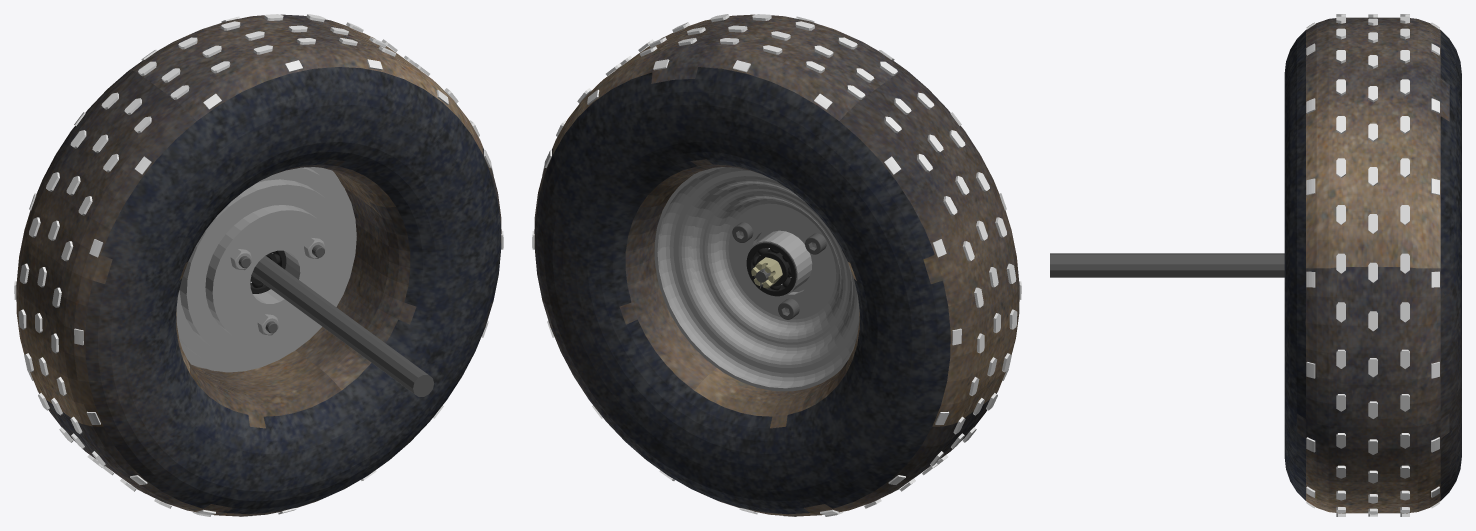
File: RTD_Link.fbx
The picture shows the model from 3 angles, left to right: view 1: azimuth 30°, elevation 25°; view 2: azimuth 150°, elevation 25°; view 3: azimuth 270°, elevation 25°; orthographic projection.
Visible parts, largest first — view 1: Neumatico_1, LLanta, Neumatico_2, Eje; view 2: Neumatico_1, LLanta, Neumatico_2, Rodamiento, Tuerca; view 3: Neumatico_1, Neumatico_2, Eje.
Boxes of the visible parts, left/top/right/bottom form: Neumatico_1: left=16, top=14, right=501, bottom=516; LLanta: left=176, top=167, right=356, bottom=372; Neumatico_2: left=14, top=14, right=503, bottom=516; Eje: left=252, top=256, right=434, bottom=396; Neumatico_1: left=534, top=14, right=1019, bottom=516; LLanta: left=654, top=167, right=859, bottom=391; Neumatico_2: left=532, top=14, right=1021, bottom=516; Rodamiento: left=746, top=242, right=796, bottom=296; Tuerca: left=751, top=257, right=782, bottom=288; Neumatico_1: left=1284, top=17, right=1461, bottom=513; Neumatico_2: left=1306, top=14, right=1439, bottom=516; Eje: left=1050, top=253, right=1284, bottom=277.
Bounding box in the file's own units: 35.42 × 35.42 × 29.03.
7 materials, 1 textured.
